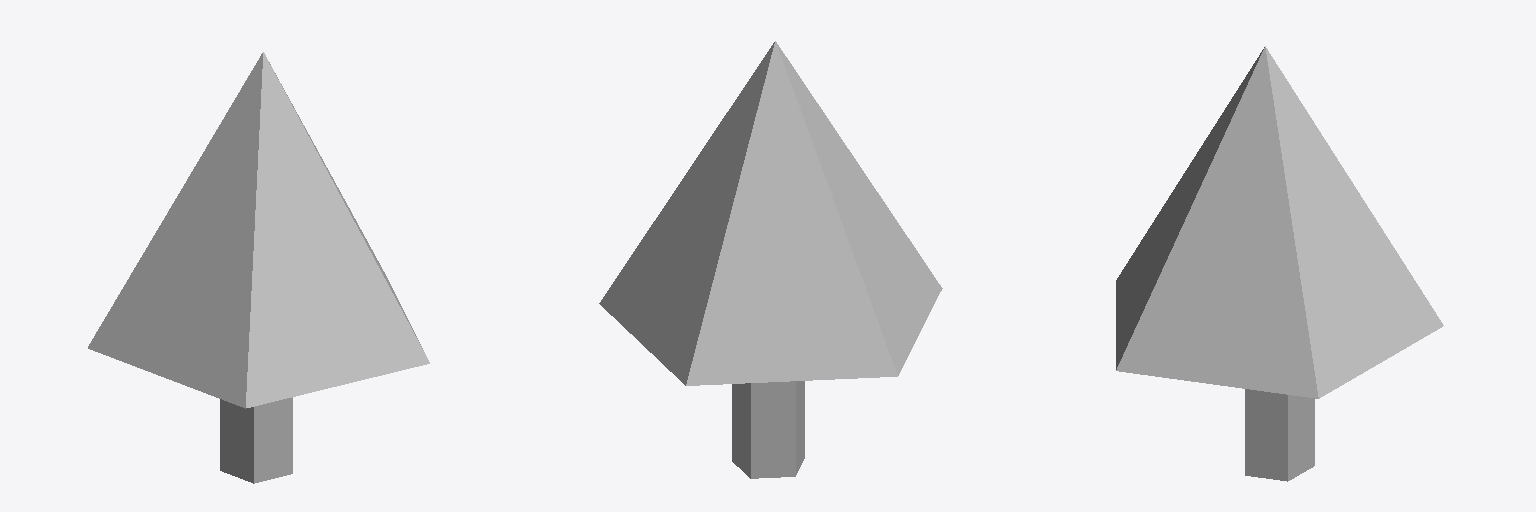
Rendered from pine.obj.
The picture shows the model from 3 angles: view 1: azimuth 30°, elevation 25°; view 2: azimuth 150°, elevation 25°; view 3: azimuth 270°, elevation 25°; orthographic projection.
Parts seen in each view (by area): view 1: pine2_Cylinder.002; view 2: pine2_Cylinder.002; view 3: pine2_Cylinder.002.
Part boxes in pixels (x1,y1,x2,y2): pine2_Cylinder.002: (88,52,429,483); pine2_Cylinder.002: (599,41,942,478); pine2_Cylinder.002: (1116,46,1443,481).
Size of the model in its own units: 2.23 by 3 by 2.13.